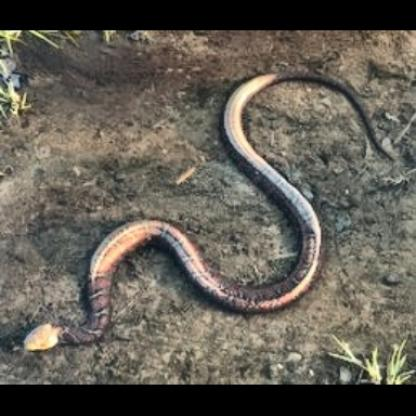Snake: (19, 57, 413, 373)
